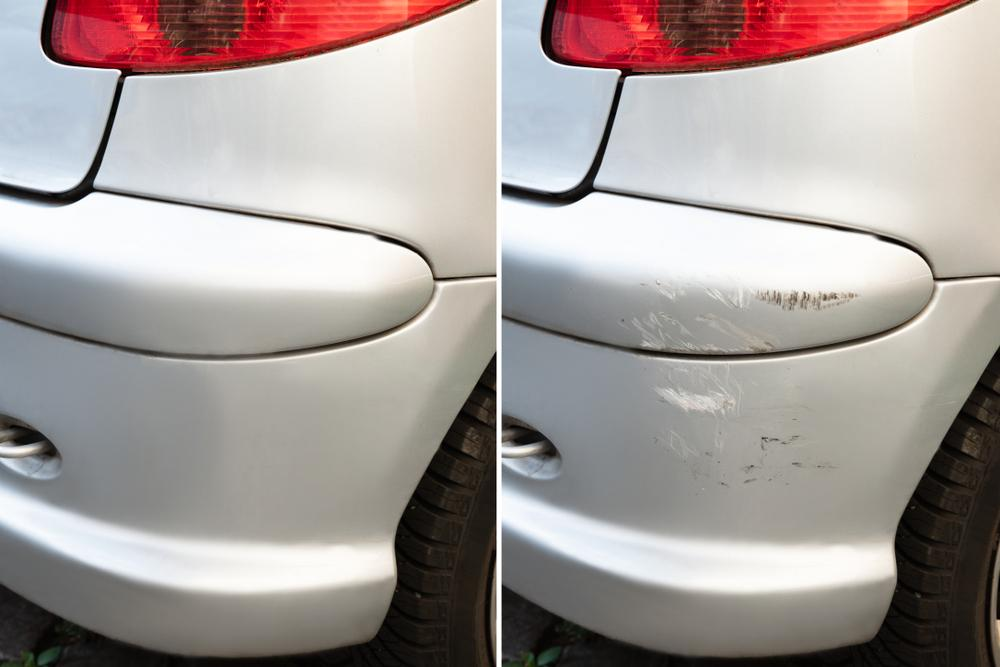scratch: (654, 361, 837, 486), (632, 277, 866, 354)
